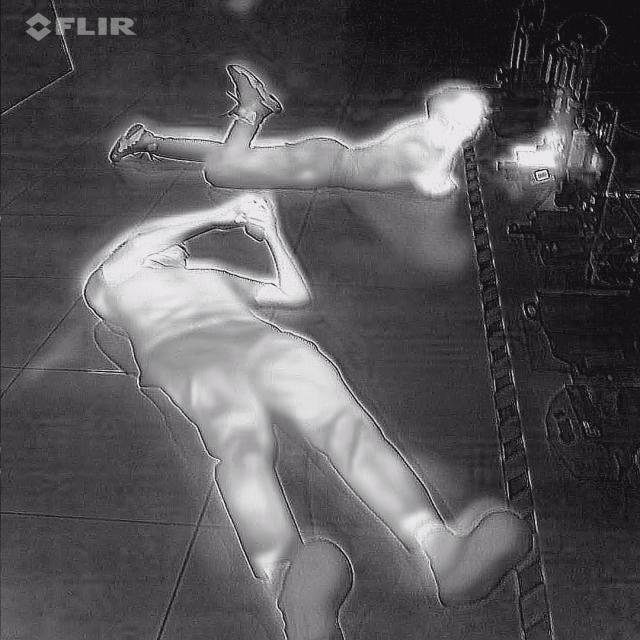Victim: (71, 190, 543, 639), (104, 59, 494, 197)
